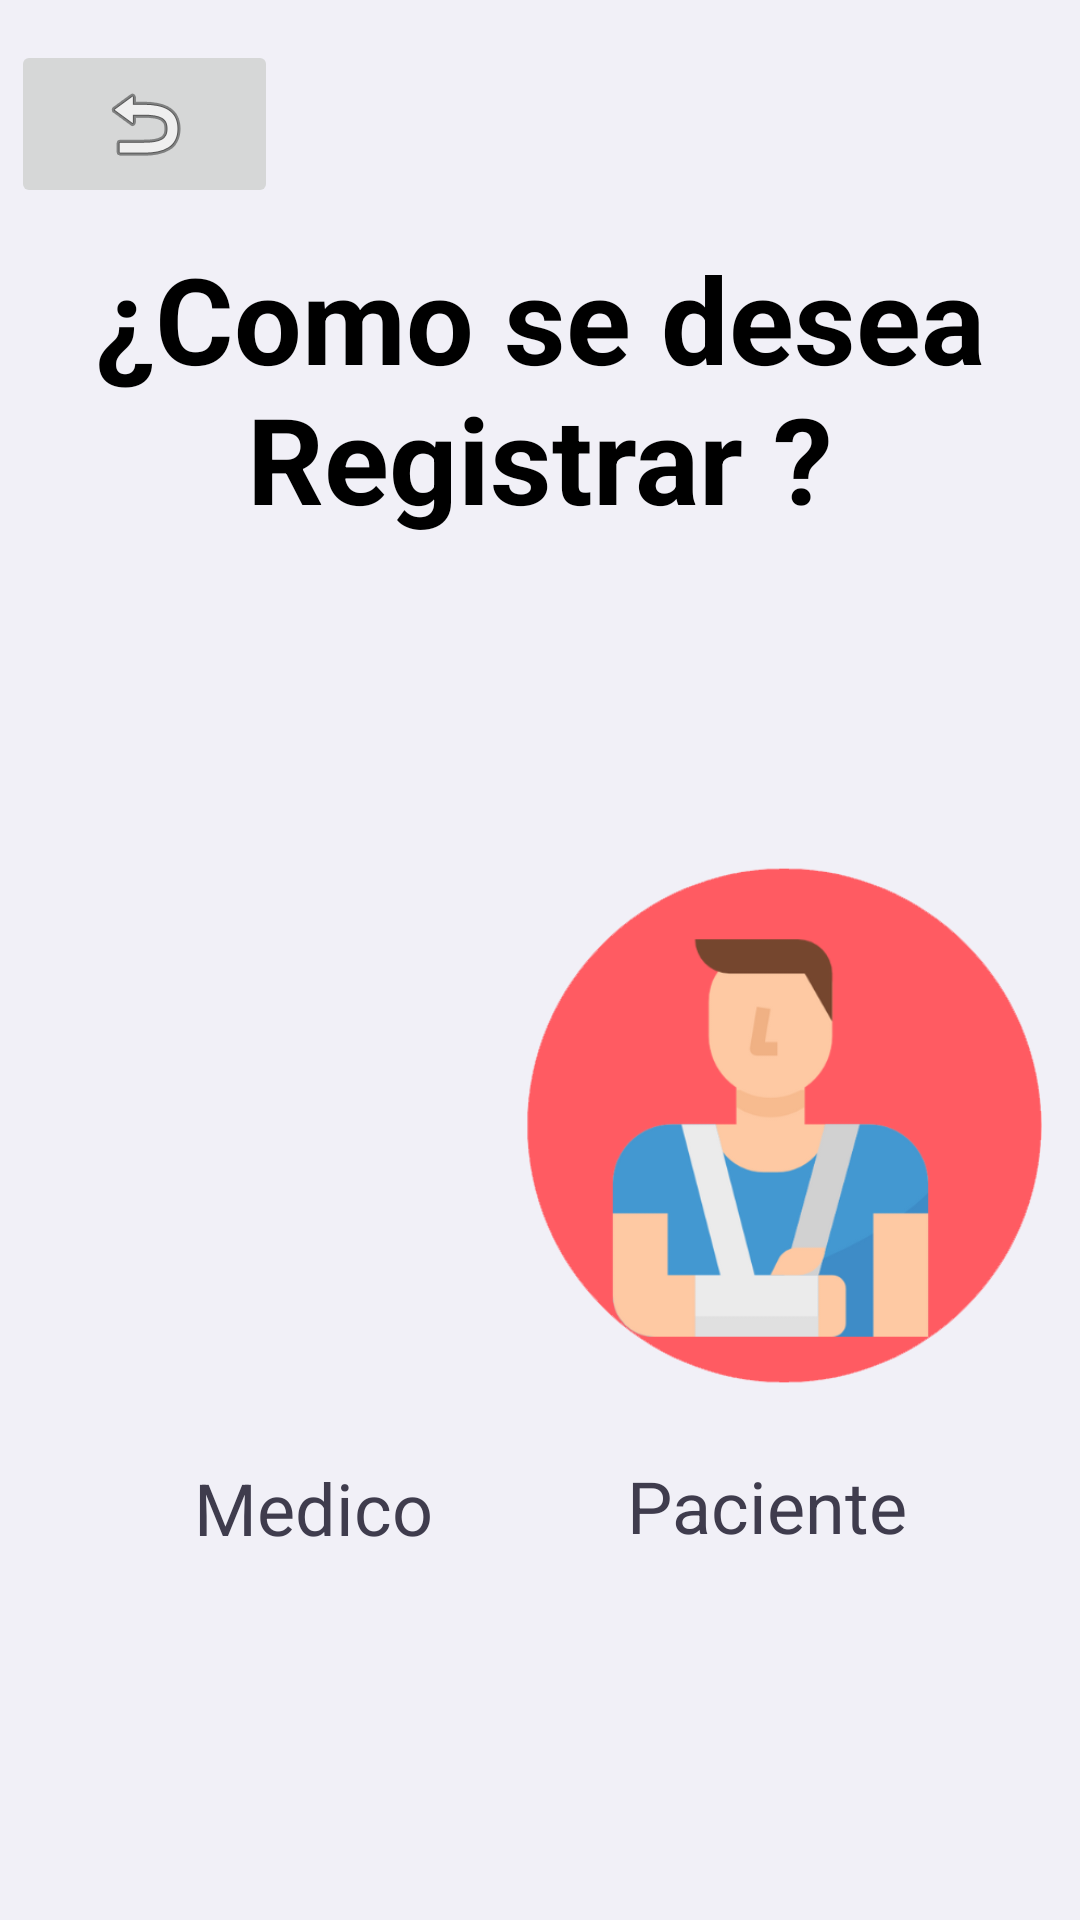

Point at icon controls on the screen. Image size 1080px×1920px, points as (x,y).
revert: (144,124)
